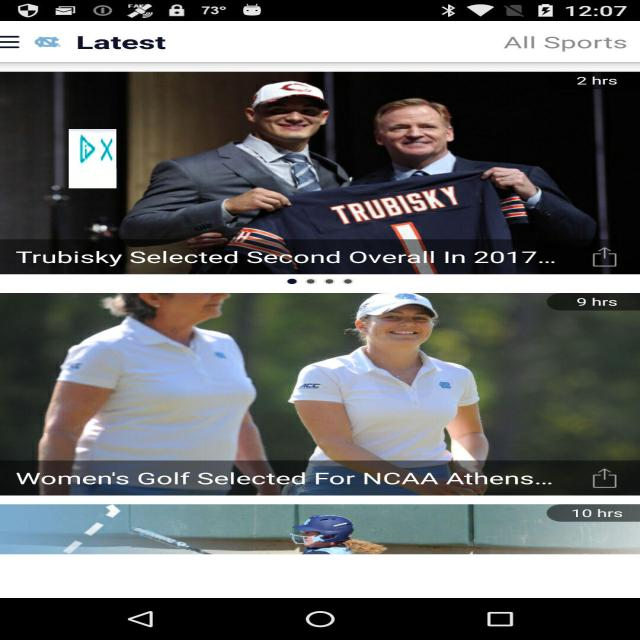sneaking: (68, 129, 118, 188)
